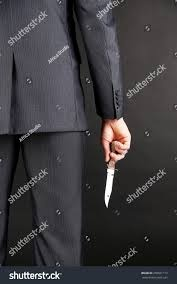knife: (103, 139, 115, 208)
